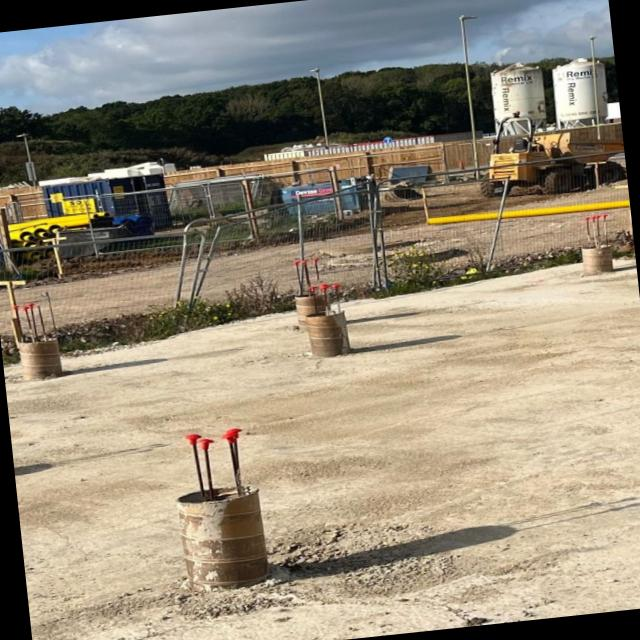white-sand: (3, 261, 640, 640)
